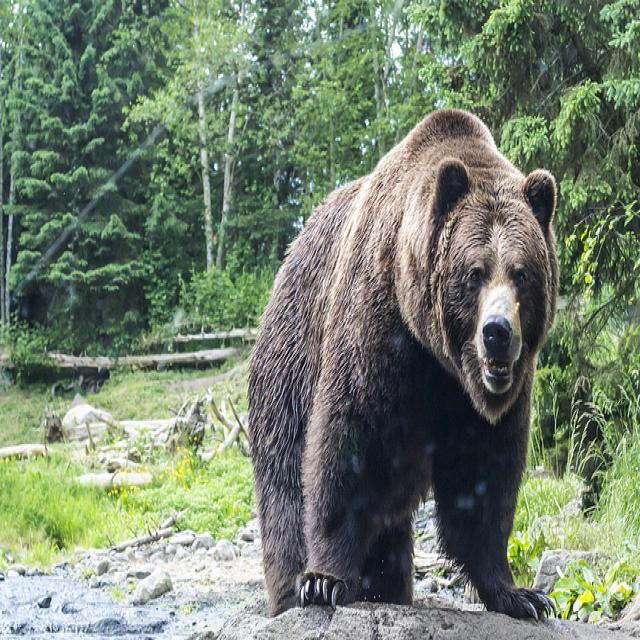Bear: (241, 109, 558, 625)
